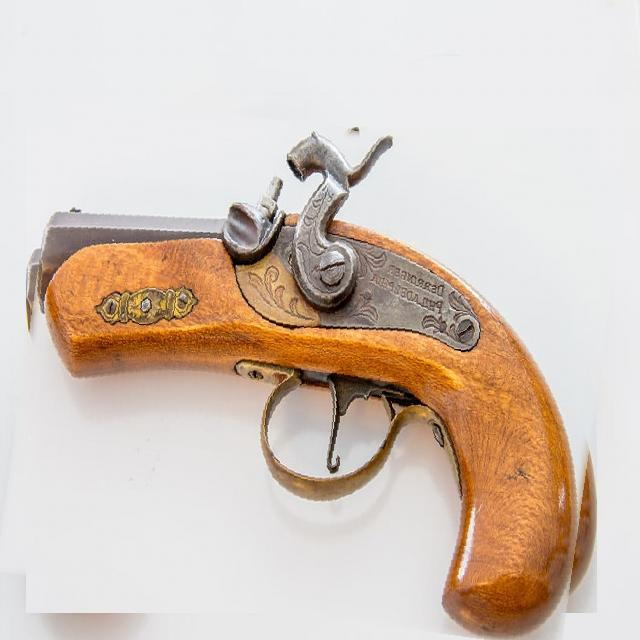gun: (10, 109, 613, 632)
